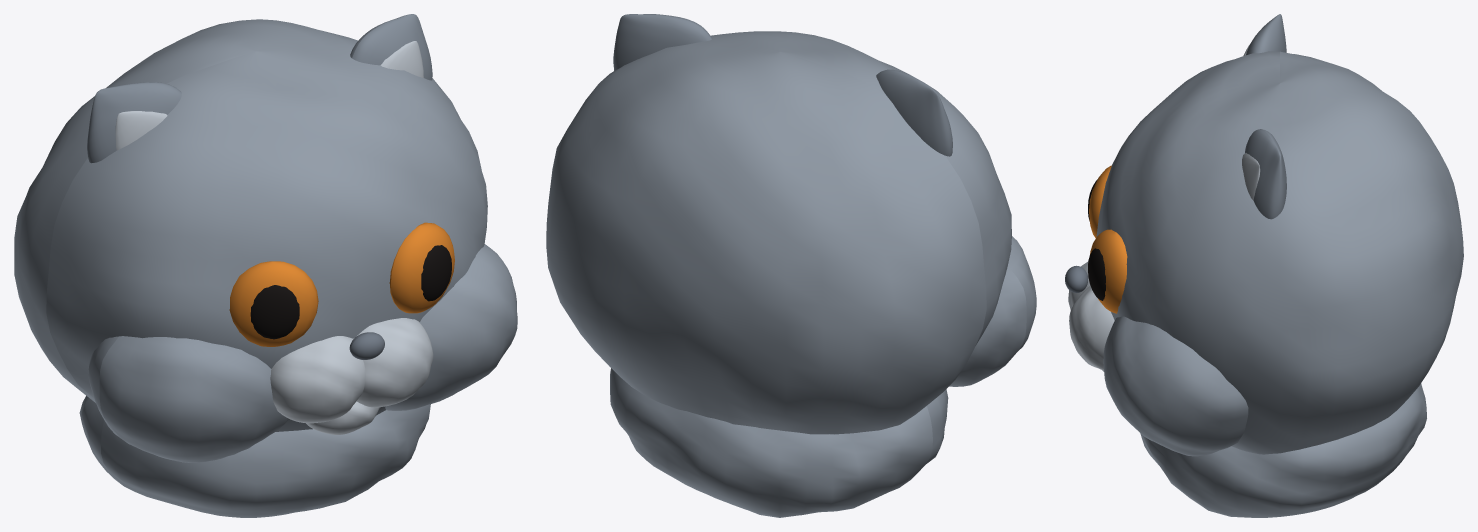
Rendered from head-cat-british.glb.
3 renders of one model, left to right at view 1: azimuth 30°, elevation 25°; view 2: azimuth 150°, elevation 25°; view 3: azimuth 270°, elevation 25°, orthographic. The views are drawn at different scales.
Parts seen in each view (by area): view 1: PM_FUR_MAIN_1, PM_FUR_MAIN_16, PM_FUR_MAIN_2, PM_FUR_MAIN_3, PM_FUR_SECONDARY_4, PM_FUR_SECONDARY_5, PM_EYES_7, PM_EARS_12, PM_EYES_9, PM_EARS_14, Eyes_Pupil_8, Eyes_Pupil_10 (+4 smaller); view 2: PM_FUR_MAIN_1, PM_FUR_MAIN_16, PM_FUR_MAIN_2, PM_EARS_12, PM_EARS_14; view 3: PM_FUR_MAIN_1, PM_FUR_MAIN_16, PM_FUR_MAIN_3, PM_EARS_14, PM_FUR_SECONDARY_5, PM_EYES_9, PM_EARS_12, Eyes_Pupil_10, PM_EYES_7, PM_FUR_SECONDARY_15, PM_NOSE_11.
Part boxes in pixels (x1,y1,x2,y2): PM_FUR_MAIN_1: [14, 19, 487, 431]; PM_FUR_MAIN_16: [79, 395, 430, 517]; PM_FUR_MAIN_2: [88, 336, 288, 462]; PM_FUR_MAIN_3: [385, 244, 517, 410]; PM_FUR_SECONDARY_4: [270, 336, 365, 423]; PM_FUR_SECONDARY_5: [354, 318, 433, 407]; PM_EYES_7: [229, 261, 318, 346]; PM_EARS_12: [87, 82, 181, 163]; PM_EYES_9: [389, 222, 454, 313]; PM_EARS_14: [350, 14, 432, 80]; Eyes_Pupil_8: [250, 285, 299, 339]; Eyes_Pupil_10: [421, 245, 451, 301]; PM_FUR_MAIN_1: [546, 31, 1011, 434]; PM_FUR_MAIN_16: [610, 368, 948, 517]; PM_FUR_MAIN_2: [949, 236, 1036, 386]; PM_EARS_12: [876, 69, 952, 156]; PM_EARS_14: [613, 14, 712, 70]; PM_FUR_MAIN_1: [1096, 51, 1463, 454]; PM_FUR_MAIN_16: [1140, 383, 1426, 517]; PM_FUR_MAIN_3: [1103, 316, 1248, 456]; PM_EARS_14: [1245, 129, 1286, 219]; PM_FUR_SECONDARY_5: [1069, 285, 1114, 370]; PM_EYES_9: [1090, 229, 1127, 313]; PM_EARS_12: [1246, 14, 1286, 55]; Eyes_Pupil_10: [1088, 248, 1105, 300]; PM_EYES_7: [1089, 165, 1111, 238]; PM_FUR_SECONDARY_15: [1242, 153, 1260, 200]; PM_NOSE_11: [1065, 265, 1087, 293].
Bounding box in the file's own units: 0.0754 × 0.0766 × 0.0673.
